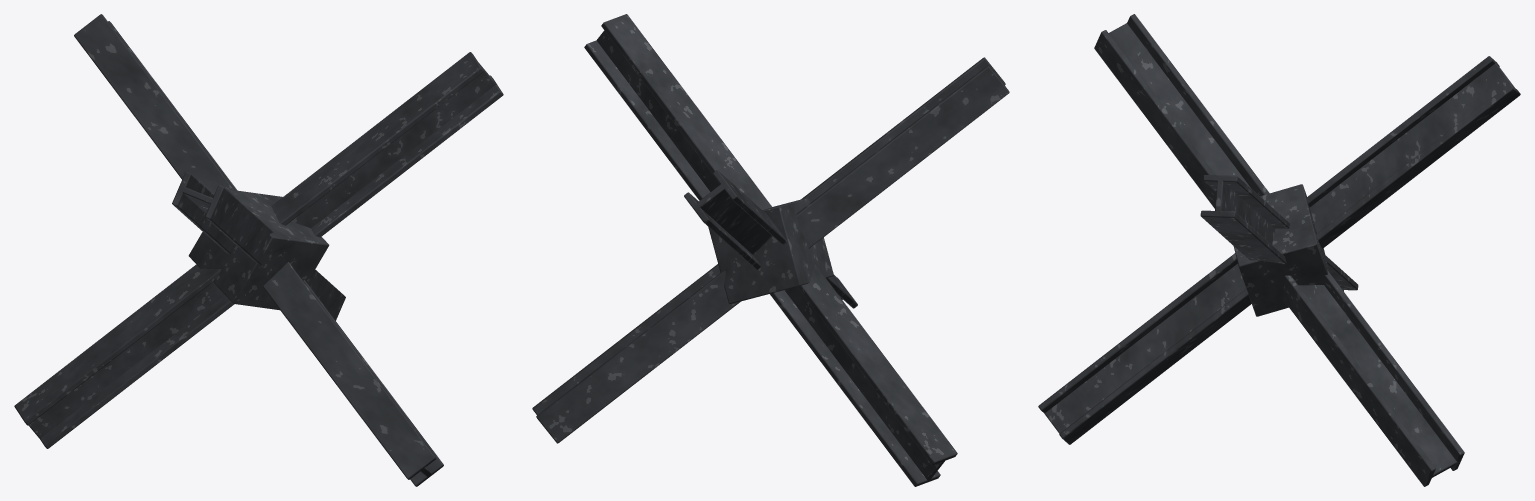
The model's file is COV_Czech_Hedgehog.glb.
3 views of the same model, side by side, from view 1: azimuth 30°, elevation 25°; view 2: azimuth 150°, elevation 25°; view 3: azimuth 270°, elevation 25° (orthographic).
Parts seen in each view (by area): view 1: COV_Czech_Hedgehog_Mesh; view 2: COV_Czech_Hedgehog_Mesh; view 3: COV_Czech_Hedgehog_Mesh.
Part boxes in pixels (x1,y1,x2,y2): COV_Czech_Hedgehog_Mesh: [14, 14, 503, 486]; COV_Czech_Hedgehog_Mesh: [532, 14, 1009, 486]; COV_Czech_Hedgehog_Mesh: [1038, 14, 1520, 486].
Bounding box in the file's own units: 1.64 × 1.27 × 1.64.
Materials: 1 (1 with a texture image).
